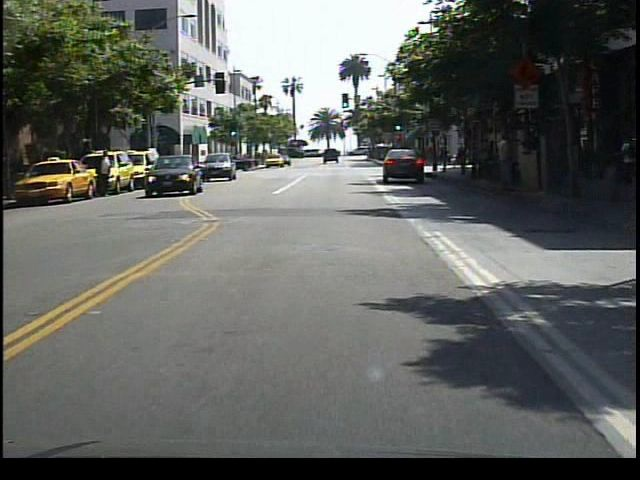person: (492, 130, 519, 200), (95, 147, 116, 208)
